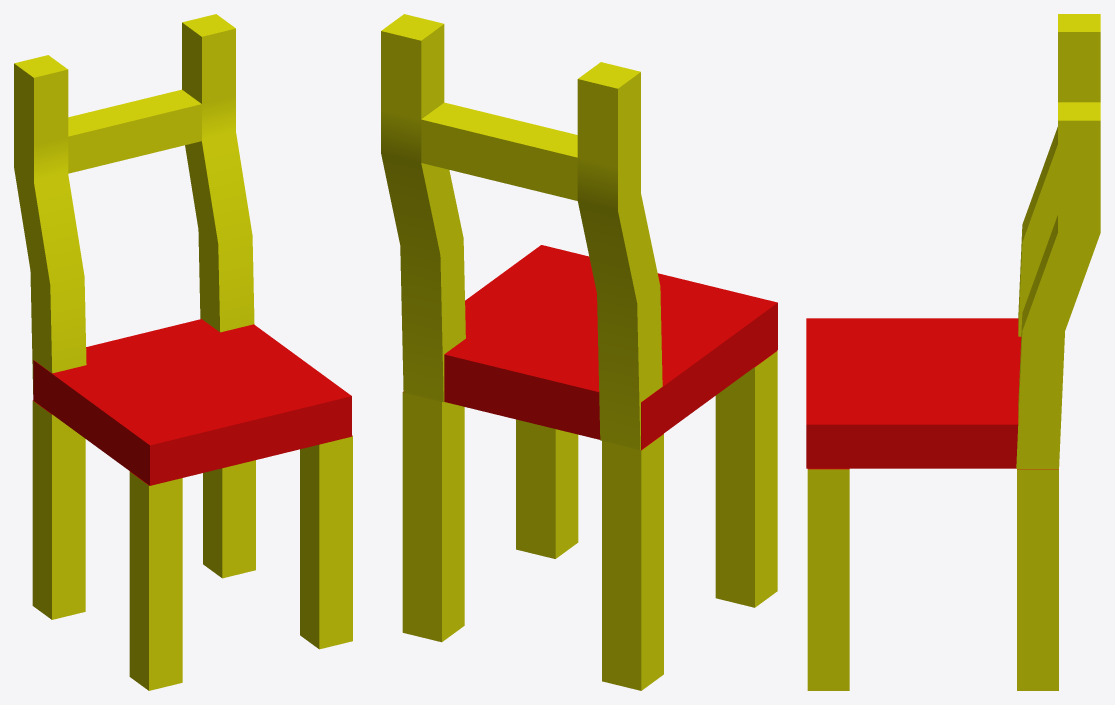
The model's file is chaise.fbx.
3 views of the same model, side by side, from view 1: azimuth 30°, elevation 25°; view 2: azimuth 150°, elevation 25°; view 3: azimuth 270°, elevation 25° (orthographic). The views are drawn at different scales.
Visible parts, largest first — view 1: pCube121; view 2: pCube121; view 3: pCube121.
Boxes of the visible parts, bbox=[...] form: pCube121: bbox=[14, 14, 352, 690]; pCube121: bbox=[381, 14, 777, 690]; pCube121: bbox=[806, 14, 1100, 690].
Bounding box in the file's own units: 69.35 × 172 × 80.28.
